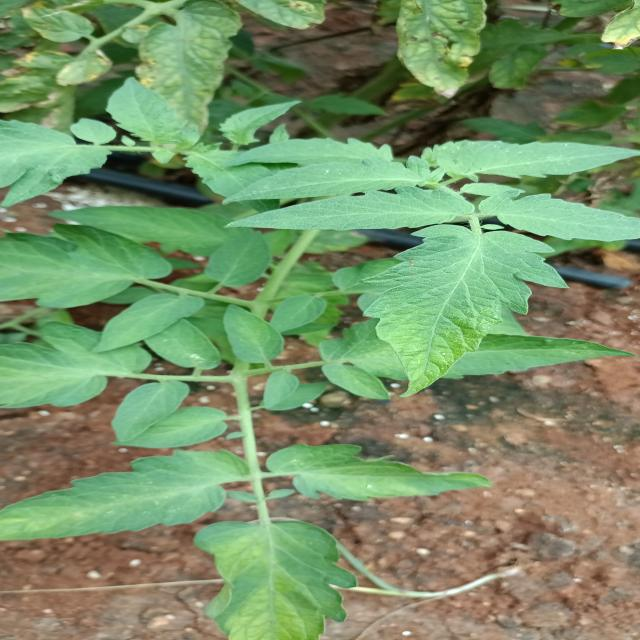Healthy Leaf: (348, 222, 562, 392), (0, 451, 255, 541), (184, 516, 366, 640), (256, 444, 503, 508), (221, 190, 468, 234), (486, 190, 640, 244), (77, 289, 225, 345), (435, 141, 639, 181)
